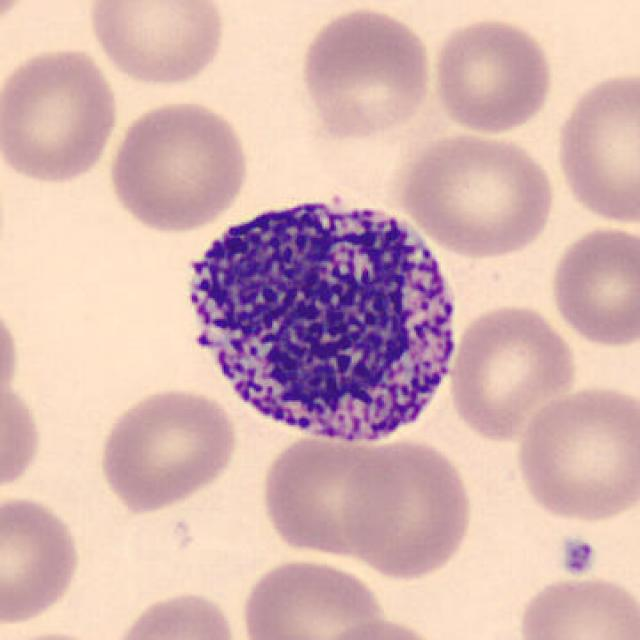Basophil: (167, 178, 471, 457)
Platelets: (557, 533, 599, 580)
RBC: (395, 129, 560, 259), (103, 97, 253, 234), (339, 435, 476, 582), (256, 430, 407, 561), (295, 4, 436, 144), (444, 300, 580, 444), (94, 382, 242, 514), (512, 381, 638, 525), (0, 44, 123, 187), (426, 12, 556, 136), (551, 67, 638, 227), (238, 553, 392, 640), (84, 0, 231, 88), (546, 222, 638, 349), (0, 490, 85, 627), (514, 573, 638, 640), (107, 587, 245, 640), (0, 372, 44, 500), (311, 617, 446, 640), (0, 293, 21, 418), (0, 627, 122, 640), (0, 0, 34, 42)
